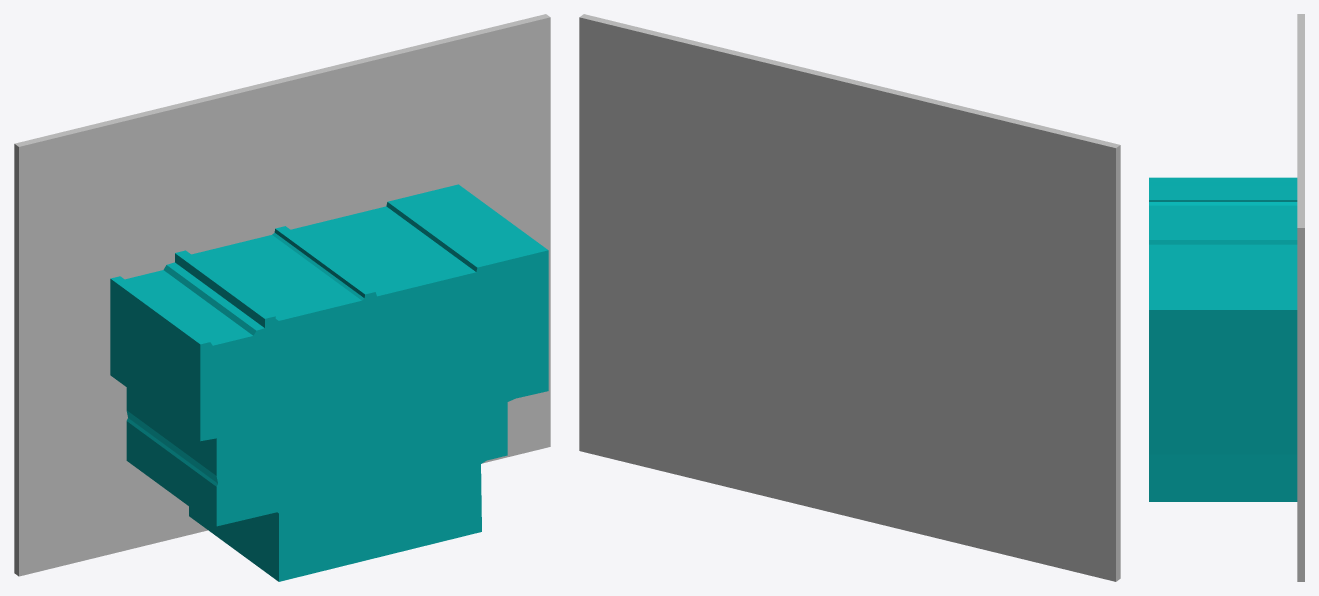
3 renders of one model, left to right at view 1: azimuth 30°, elevation 25°; view 2: azimuth 150°, elevation 25°; view 3: azimuth 270°, elevation 25°, orthographic. The views are drawn at different scales.
Visible parts, largest first — view 1: world; view 2: world; view 3: world.
Boxes of the visible parts, box(x1,y1,x2,y2) form: world: box(14, 14, 550, 581); world: box(579, 14, 1120, 581); world: box(1149, 14, 1304, 581).
Size of the model in its own units: 10.23 by 7.9 by 3.15.
